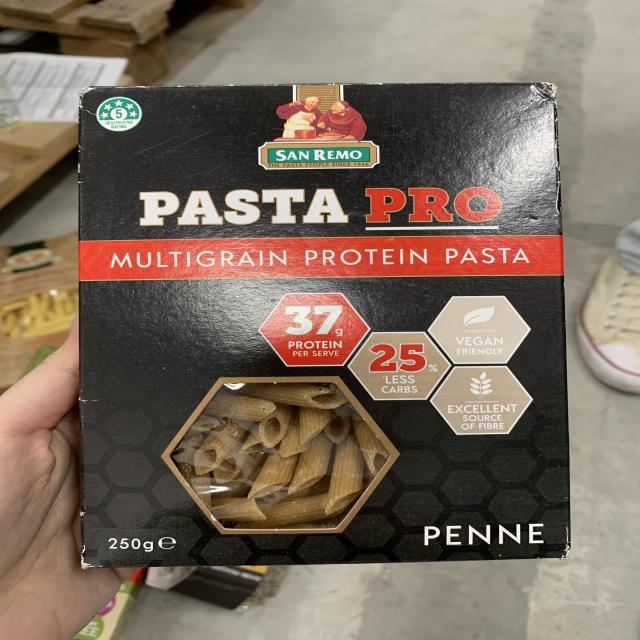object_name: (78, 87, 563, 561)
